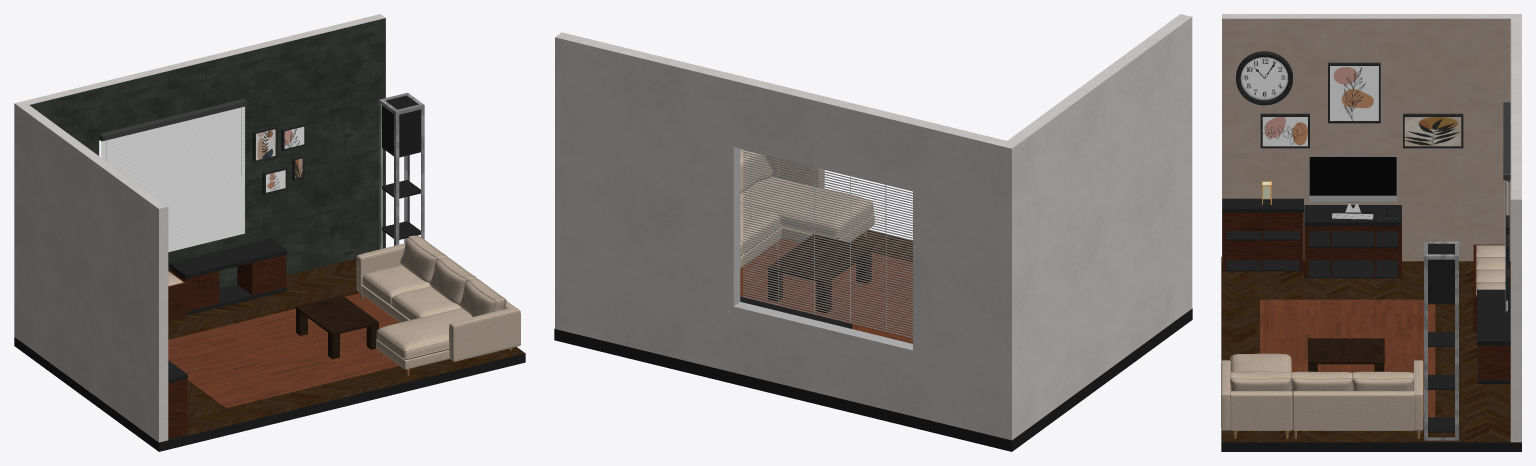
The model's file is Room_004.glb.
The picture shows the model from 3 angles, left to right: view 1: azimuth 30°, elevation 25°; view 2: azimuth 150°, elevation 25°; view 3: azimuth 270°, elevation 25°; orthographic projection. The views are drawn at different scales.
Visible parts, largest first — view 1: Paredes_GEO, Piso_GEO, SofaL_GEO, Tapete_GEO, Cajonera_01, Repisa_01, MesaSala_01, Cadros_01, pCube49, pCube44, Silla_01; view 2: Paredes_GEO, Piso_GEO, SofaL_GEO, Tapete_GEO, MesaSala_01, Cajonera_01; view 3: Paredes_GEO, Piso_GEO, SofaL_GEO, Tapete_GEO, Cadros_01, Repisa_01, Monitor_GEO, Cajonera_01, pCube41, Clock_Wall, MesaSala_01, pCube42.001 (+10 smaller).
Part boxes in pixels (box(x1,y1,x2,y2)): Paredes_GEO: box(14, 14, 385, 442); Piso_GEO: box(14, 258, 525, 451); SofaL_GEO: box(356, 235, 520, 375); Tapete_GEO: box(168, 293, 399, 408); Cajonera_01: box(169, 238, 287, 315); Repisa_01: box(379, 92, 424, 249); MesaSala_01: box(295, 295, 378, 359); Cadros_01: box(252, 123, 306, 194); pCube49: box(99, 99, 246, 141); pCube44: box(168, 379, 187, 438); Silla_01: box(168, 270, 186, 321); Paredes_GEO: box(555, 14, 1192, 440); Piso_GEO: box(554, 230, 1192, 451); SofaL_GEO: box(740, 148, 874, 268); Tapete_GEO: box(740, 239, 912, 343); MesaSala_01: box(767, 234, 871, 313); Cajonera_01: box(740, 296, 852, 328); Paredes_GEO: box(1222, 14, 1521, 442); Piso_GEO: box(1221, 256, 1521, 451); SofaL_GEO: box(1221, 353, 1423, 438); Tapete_GEO: box(1260, 299, 1435, 418); Cadros_01: box(1260, 62, 1509, 300); Repisa_01: box(1424, 241, 1458, 440); Monitor_GEO: box(1309, 156, 1396, 212); Cajonera_01: box(1476, 289, 1510, 383); pCube41: box(1226, 212, 1299, 260); Clock_Wall: box(1236, 51, 1292, 105); MesaSala_01: box(1308, 338, 1384, 371); pCube42.001: box(1304, 205, 1401, 226).
Size of the model in its own units: 3.7 by 2.34 by 2.53.
Materials: 18 (18 with a texture image).
